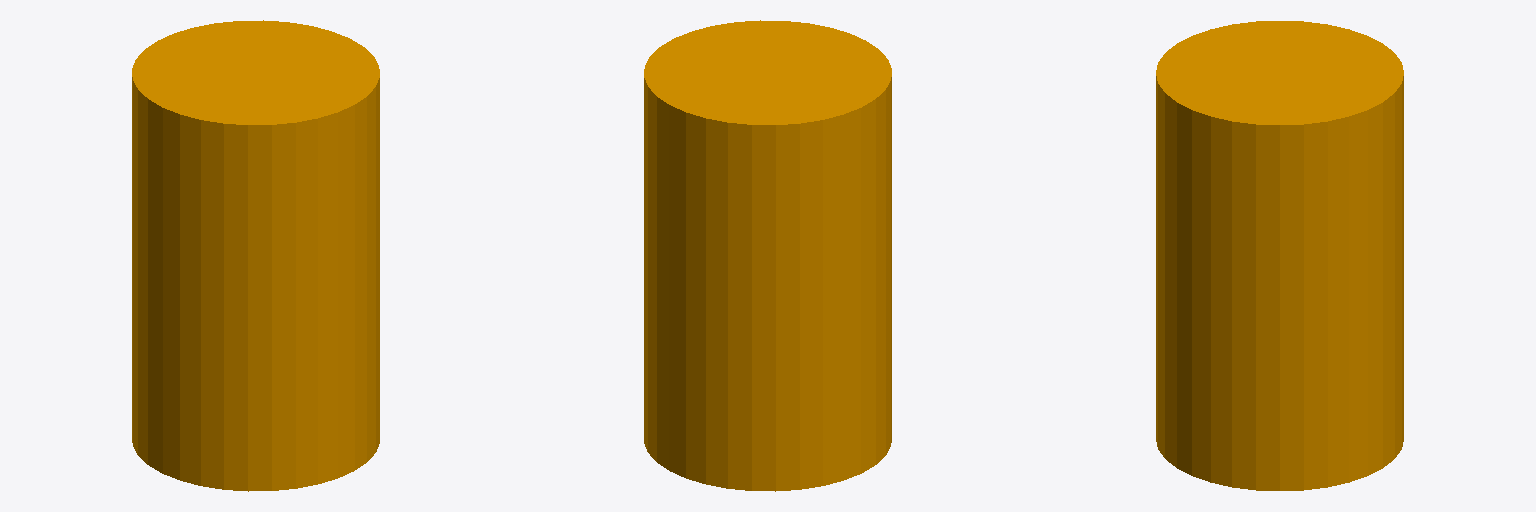
robot.urdf — urdf_robot:
<?xml version="1.0" ?>
<robot name="urdf_robot">
  <link name="baseLink">
    <visual>
      <geometry>
        <cylinder length="0.13" radius="0.04"/>
      </geometry>
      <origin rpy="0 0 0" xyz="0 0 0.065"/>
    </visual>
    <collision>
      <geometry>
        <cylinder length="0.13" radius="0.04"/>
      </geometry>
      <origin rpy="0 0 0" xyz="0 0 0.0"/>
    </collision>
    <inertial>
      <mass value="3.5"/>
      <inertia ixx="0.001" ixy="0.0" ixz="0.0" iyy="0.001" iyz="0.0" izz="0.001"/>
      <origin rpy="0 0 0" xyz="0 0 0.0"/>
    </inertial>
  </link>
</robot>

--- Facts derived from the render (not from the file) ---
Views: 3 orthographic renders of the robot side by side, from view 1: azimuth 30°, elevation 25°; view 2: azimuth 150°, elevation 25°; view 3: azimuth 270°, elevation 25°.
Model urdf_robot with 1 links and 0 joints (none), rooted at baseLink, posed all joints at 0.
Visible links, largest first — view 1: baseLink; view 2: baseLink; view 3: baseLink.
Boxes of the visible links, bbox=[...] form: baseLink: bbox=[132, 20, 379, 491]; baseLink: bbox=[644, 20, 891, 491]; baseLink: bbox=[1156, 21, 1403, 490].
Bounding box of the posed robot: 0.08 × 0.08 × 0.13 m (x, y, z).
Geometry: primitives only (box / cylinder / sphere), no mesh files.